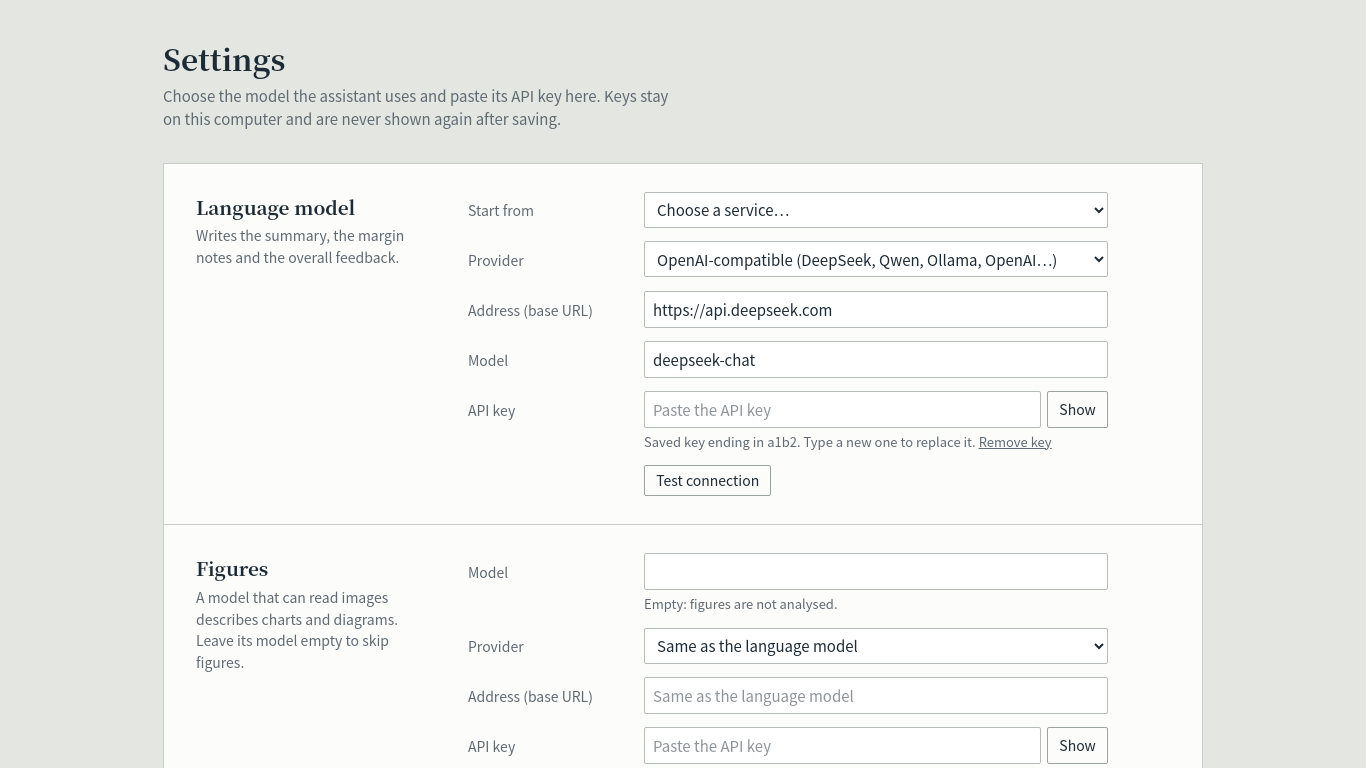
Test: a failed connection shows the provider error
The width and height of the screenshot is (1366, 768).
Expected: the field showing "deepseek-chat" below "Start from" is shown, [644,341,1108,378]
What coordinates should you click on to do the following:
click the button "Test connection"
I would click on:
 (708, 481)
Its box is [644,465,771,496].
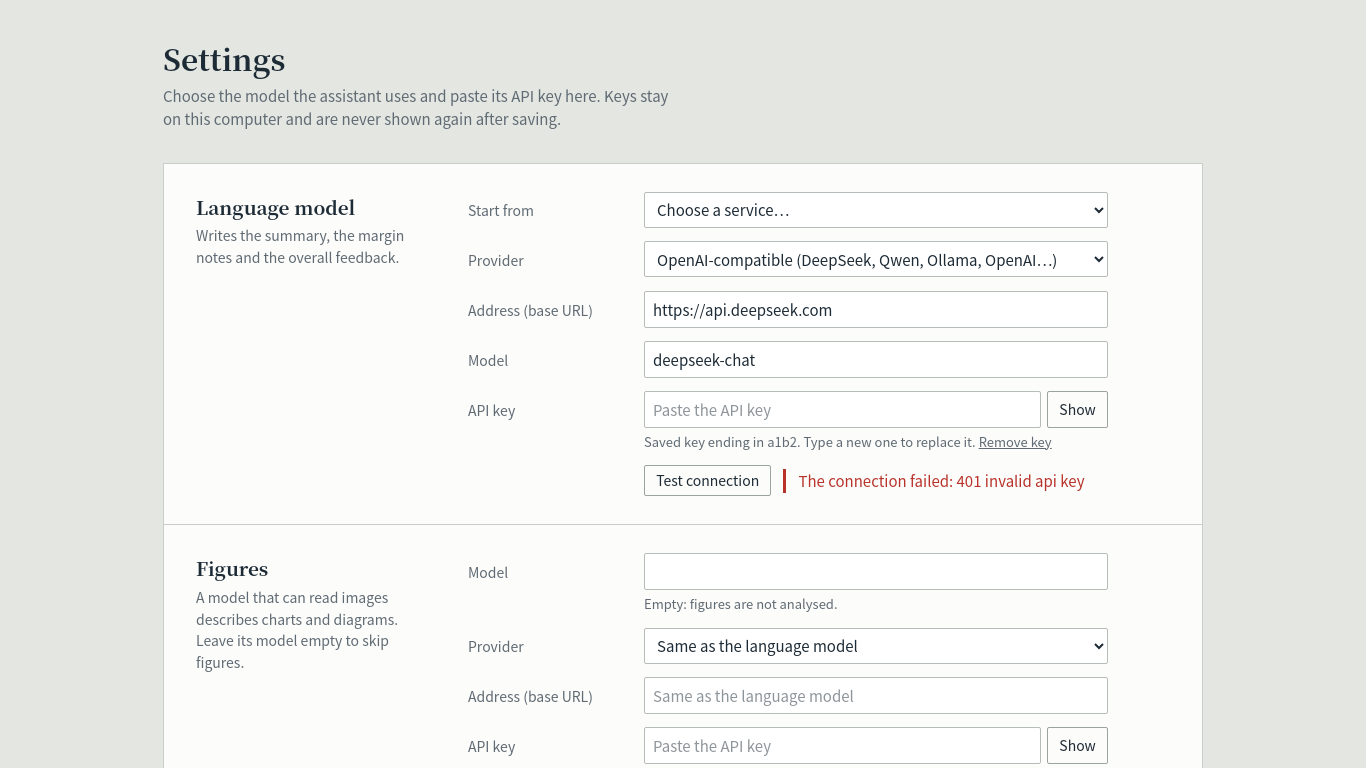
Expected: the message shows "401 invalid api key", [798,470,1084,491]
